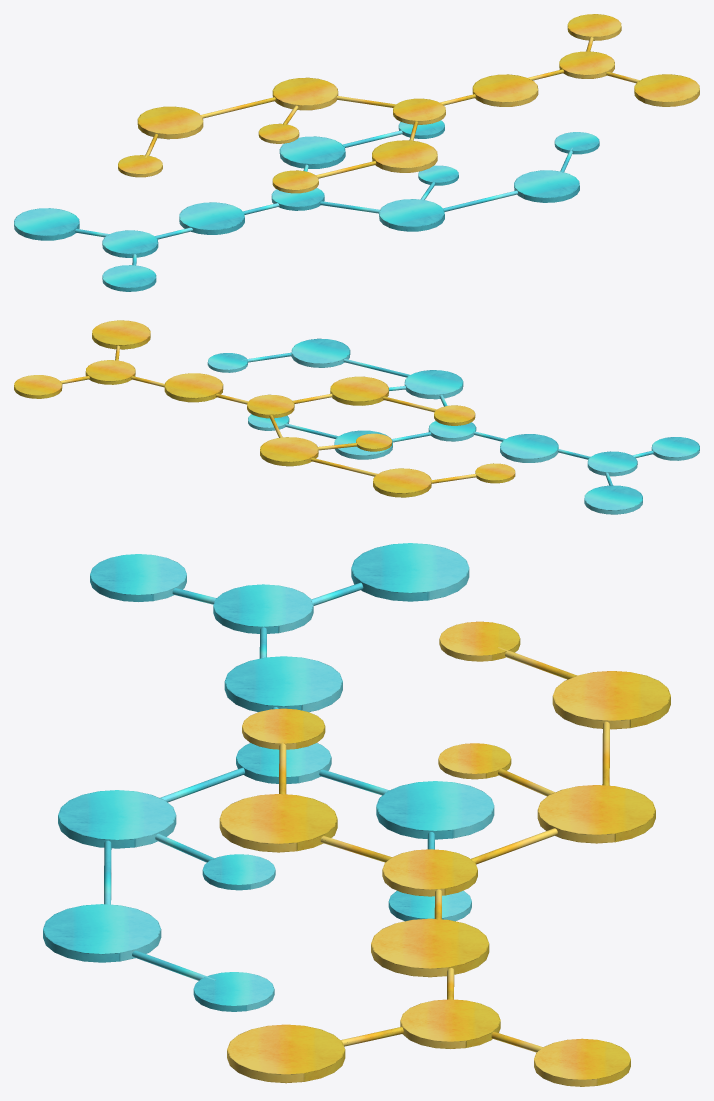
Rendered from ucaascpaas.obj.
3 views of the same model, one above another, from view 1: azimuth 30°, elevation 25°; view 2: azimuth 150°, elevation 25°; view 3: azimuth 270°, elevation 25° (orthographic). The views are drawn at different scales.
Visible parts, largest first — view 1: Orange_cilinders_pCylinder2, cilinders_BluePlatform_pCylinder7, Orange_cilinders_pCylinder6, Orange_cilinders_pCylinder4, Orange_cilinders_pCylinder10, cilinders_BluePlatform_pCylinder10, cilinders_BluePlatform_pCylinder2, cilinders_BluePlatform_pCylinder4, Orange_pCylinder7_cilinders, cilinders_BluePlatform_pCylinder6, cilinders_BluePlatform_pCylinder1, Orange_cilinders_pCylinder1 (+10 smaller); view 2: Orange_cilinders_pCylinder10, cilinders_BluePlatform_pCylinder2, Orange_cilinders_pCylinder4, cilinders_BluePlatform_pCylinder4, Orange_cilinders_pCylinder2, Orange_pCylinder7_cilinders, cilinders_BluePlatform_pCylinder10, cilinders_BluePlatform_pCylinder7, Orange_cilinders_pCylinder6, cilinders_BluePlatform_pCylinder1, Orange_cilinders_pCylinder1, Orange_cilinders_pCylinder3 (+9 smaller); view 3: Orange_cilinders_pCylinder2, cilinders_BluePlatform_pCylinder2, Orange_cilinders_pCylinder4, Orange_cilinders_pCylinder6, Orange_cilinders_pCylinder10, cilinders_BluePlatform_pCylinder6, Orange_pCylinder7_cilinders, cilinders_BluePlatform_pCylinder10, cilinders_BluePlatform_pCylinder7, cilinders_BluePlatform_pCylinder4, cilinders_BluePlatform_pCylinder1, Orange_cilinders_pCylinder1 (+10 smaller).
Part boxes in pixels (x1,y1,x2,y2): Orange_cilinders_pCylinder2: (634, 74, 699, 106); cilinders_BluePlatform_pCylinder7: (379, 199, 444, 231); Orange_cilinders_pCylinder6: (372, 140, 437, 172); Orange_cilinders_pCylinder4: (472, 74, 538, 106); Orange_cilinders_pCylinder10: (137, 106, 203, 139); cilinders_BluePlatform_pCylinder10: (514, 170, 579, 202); cilinders_BluePlatform_pCylinder2: (14, 208, 79, 240); cilinders_BluePlatform_pCylinder4: (179, 202, 244, 234); Orange_pCylinder7_cilinders: (272, 77, 338, 110); cilinders_BluePlatform_pCylinder6: (279, 136, 345, 168); cilinders_BluePlatform_pCylinder1: (102, 230, 158, 257); Orange_cilinders_pCylinder1: (559, 51, 614, 78); Orange_cilinders_pCylinder10: (373, 468, 431, 497); cilinders_BluePlatform_pCylinder2: (584, 485, 642, 514); Orange_cilinders_pCylinder4: (164, 373, 223, 402); cilinders_BluePlatform_pCylinder4: (500, 434, 558, 462); Orange_cilinders_pCylinder2: (92, 320, 150, 349); Orange_pCylinder7_cilinders: (260, 437, 318, 466); cilinders_BluePlatform_pCylinder10: (291, 338, 350, 367); cilinders_BluePlatform_pCylinder7: (404, 370, 463, 399); Orange_cilinders_pCylinder6: (330, 376, 388, 405); cilinders_BluePlatform_pCylinder1: (587, 451, 637, 476); Orange_cilinders_pCylinder1: (85, 360, 135, 384); Orange_cilinders_pCylinder3: (14, 375, 62, 398); Orange_cilinders_pCylinder2: (227, 1024, 345, 1083); cilinders_BluePlatform_pCylinder2: (351, 543, 469, 601); Orange_cilinders_pCylinder4: (371, 918, 489, 977); Orange_cilinders_pCylinder6: (219, 794, 337, 852); Orange_cilinders_pCylinder10: (552, 671, 670, 729); cilinders_BluePlatform_pCylinder6: (376, 781, 494, 839); Orange_pCylinder7_cilinders: (537, 785, 655, 843); cilinders_BluePlatform_pCylinder10: (43, 904, 161, 962); cilinders_BluePlatform_pCylinder7: (58, 790, 176, 848); cilinders_BluePlatform_pCylinder4: (224, 656, 342, 711); cilinders_BluePlatform_pCylinder1: (213, 584, 313, 633); Orange_cilinders_pCylinder1: (400, 999, 500, 1048).
Size of the model in its own units: 12.93 by 0.4052 by 6.07.
1 material, 1 textured.
